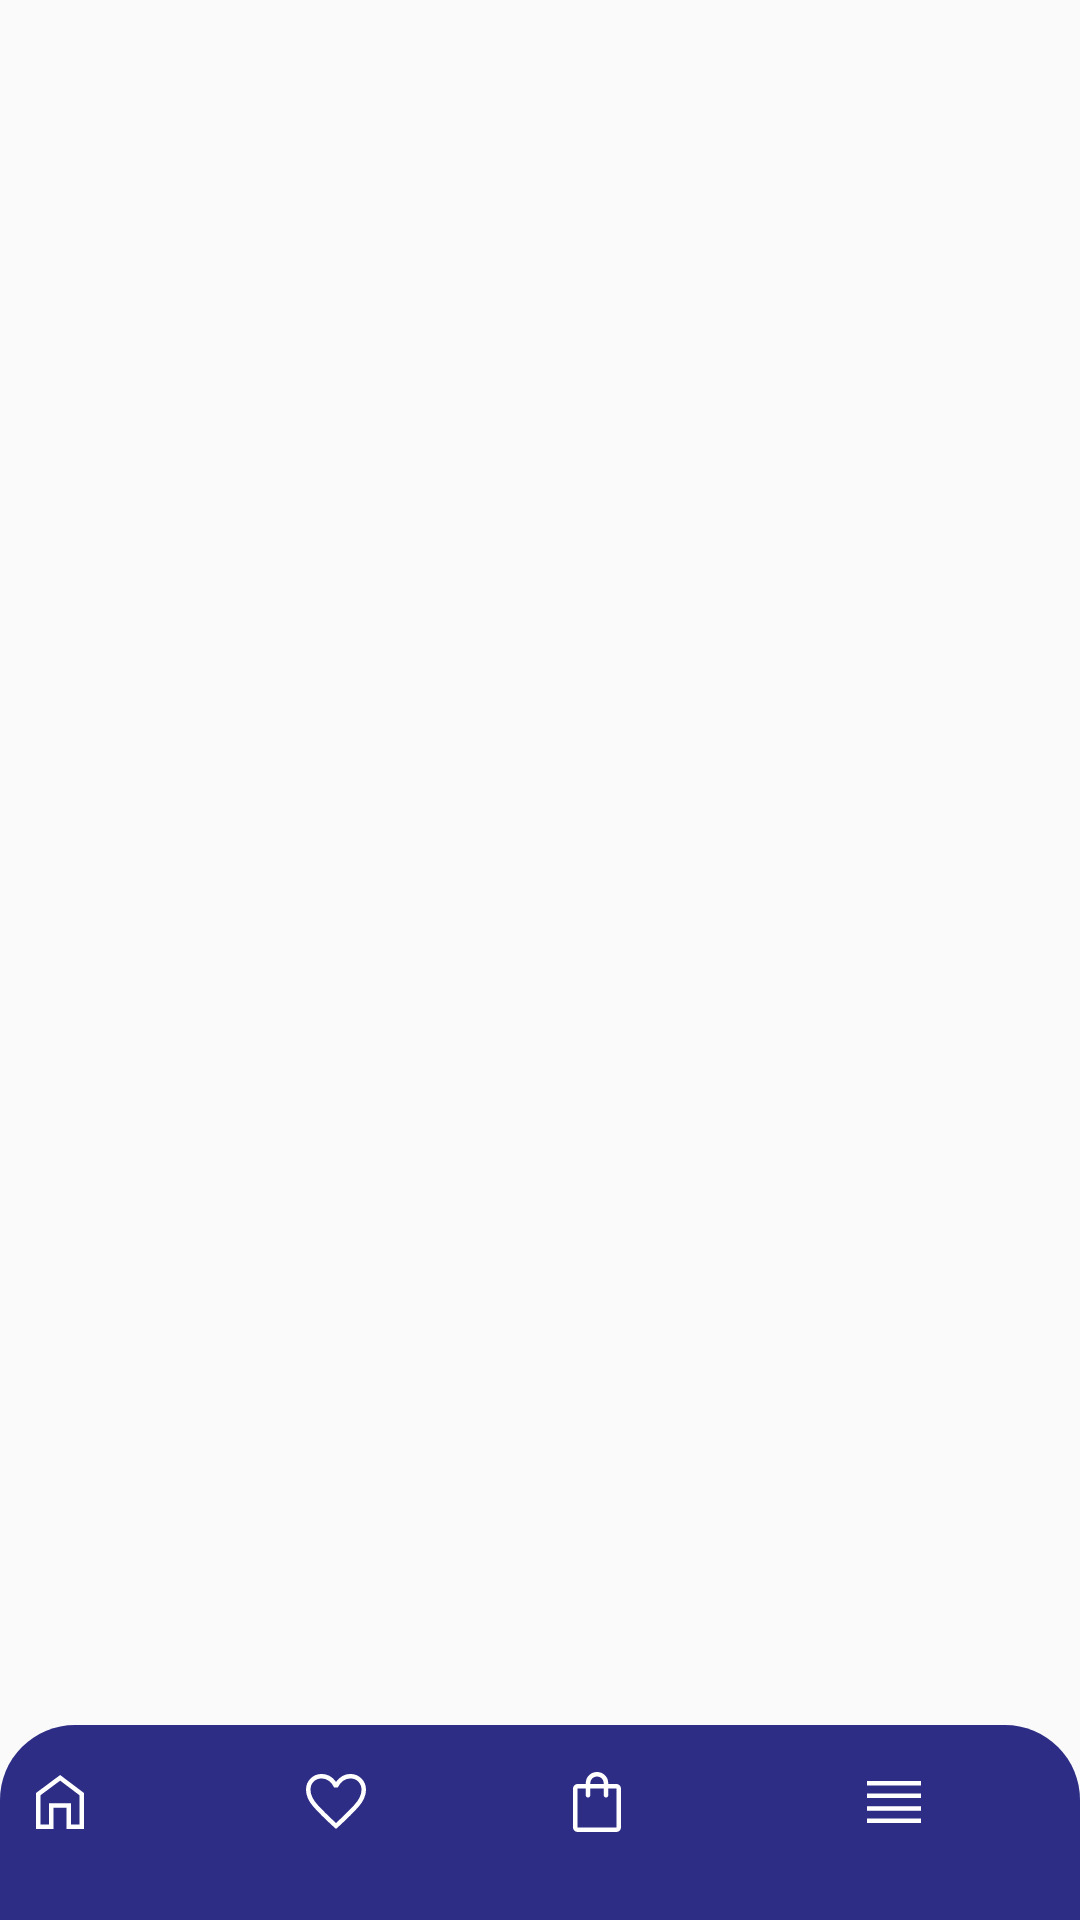

Named icons in this screenshot (1080 × 1920) and their bounding boxes, {"x1": x1, "y1": y1, "x2": x2, "y2": y2}:
favorite: {"x1": 306, "y1": 1774, "x2": 366, "y2": 1829}
home: {"x1": 36, "y1": 1775, "x2": 84, "y2": 1829}
reorder: {"x1": 867, "y1": 1781, "x2": 921, "y2": 1823}
shopping bag: {"x1": 573, "y1": 1772, "x2": 621, "y2": 1832}
